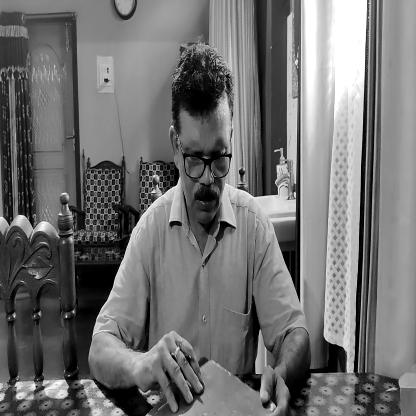Normal: (168, 47, 233, 228)
